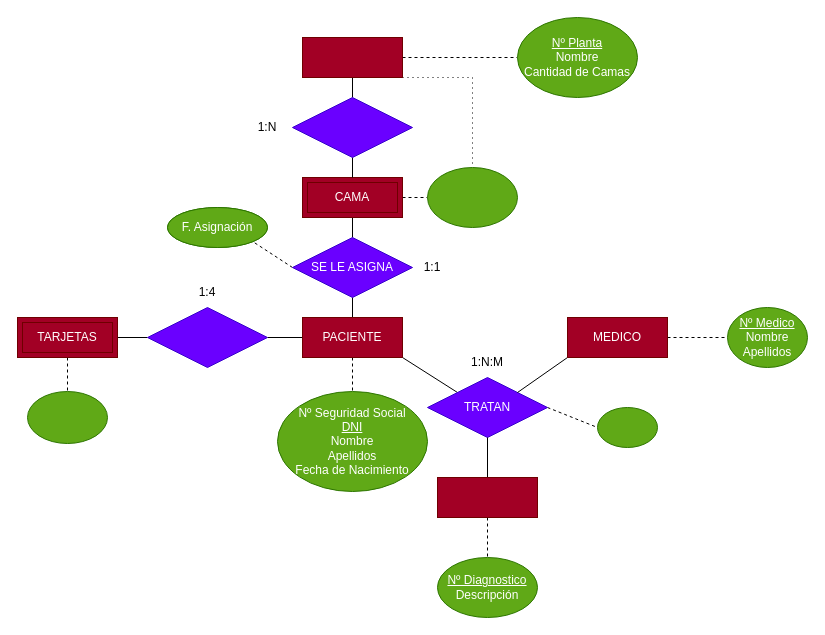
The diagram is 825 pixels wide and 635 high, and some of its shapes have lost their labels. Here are the shapes that lost their labels. From the top down, the centre of each, then its label:
point 352,57: PLANTA
point 352,127: ID TIENE
point 472,197: H: Nº Planta Nº Cama
point 207,337: E TIENE
point 67,417: Nº Tarjetas H. Comienzo H Fin
point 627,427: Fecha Hora
point 487,497: DIAGNOSTICO
